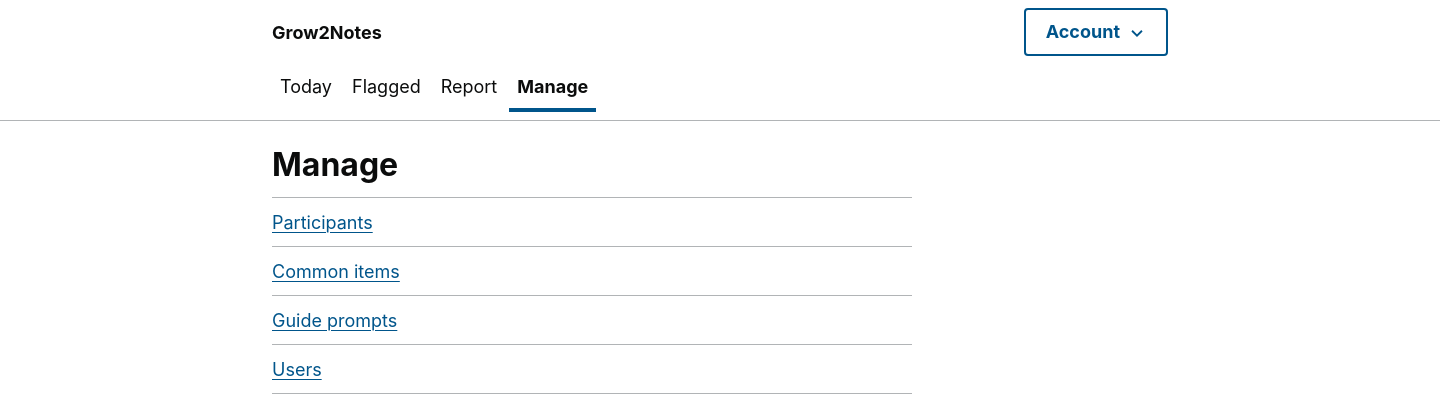
Test: Manage › opens the user list from Users, not Page not found, with Manage still marked
The image size is (1440, 411).
Click the link "Users". click: (297, 369)
box: x1=272 y1=358 x2=322 y2=380
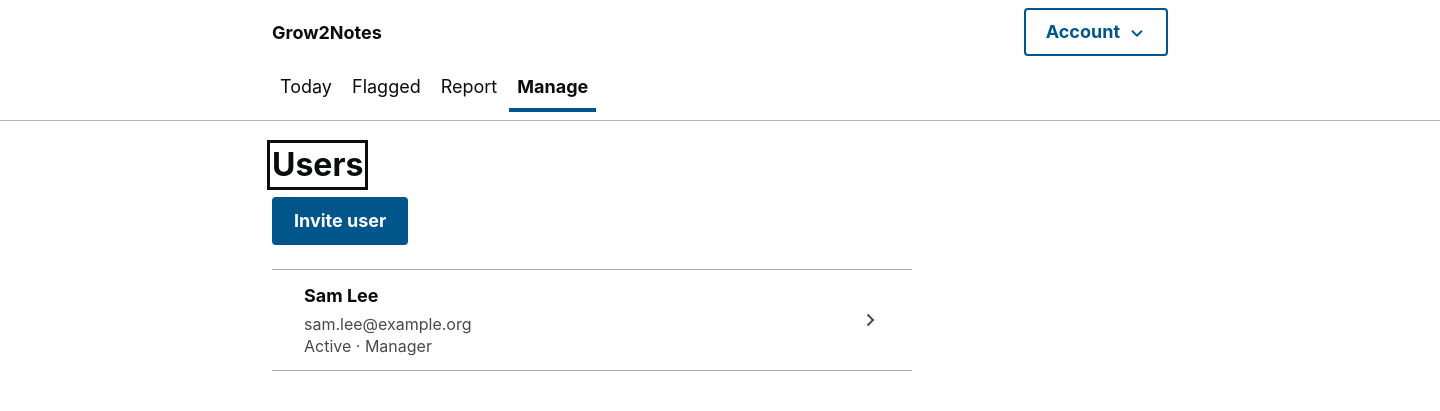
Check: the link "Sam Lee" is shown, box x1=304 y1=285 x2=379 y2=306
